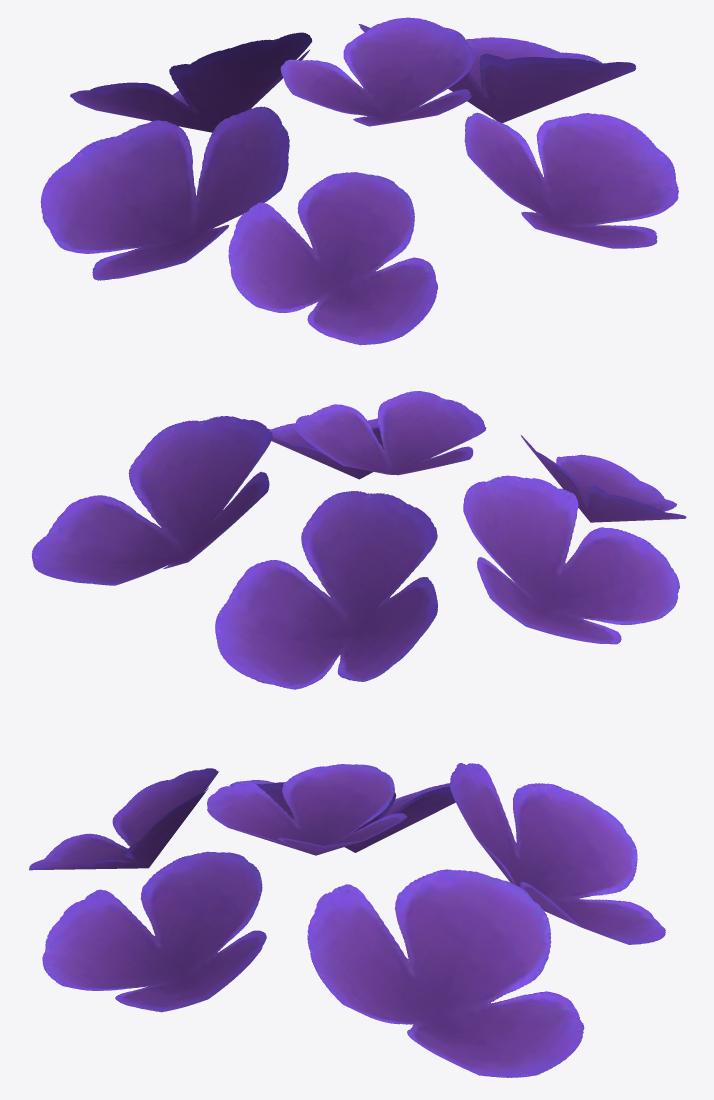
Rendered from Plant_7.glb.
3 renders of one model, top to bottom at view 1: azimuth 30°, elevation 25°; view 2: azimuth 150°, elevation 25°; view 3: azimuth 270°, elevation 25°, orthographic. The views are drawn at different scales.
Visible parts, largest first — view 1: Plant_7; view 2: Plant_7; view 3: Plant_7.
Part boxes in pixels (left/top/right/bottom): Plant_7: left=40, top=17, right=678, bottom=345; Plant_7: left=31, top=391, right=686, bottom=689; Plant_7: left=29, top=763, right=665, bottom=1077.
Size of the model in its own units: 1.05 by 0.2494 by 0.9621.
Materials: 1 (1 with a texture image).
